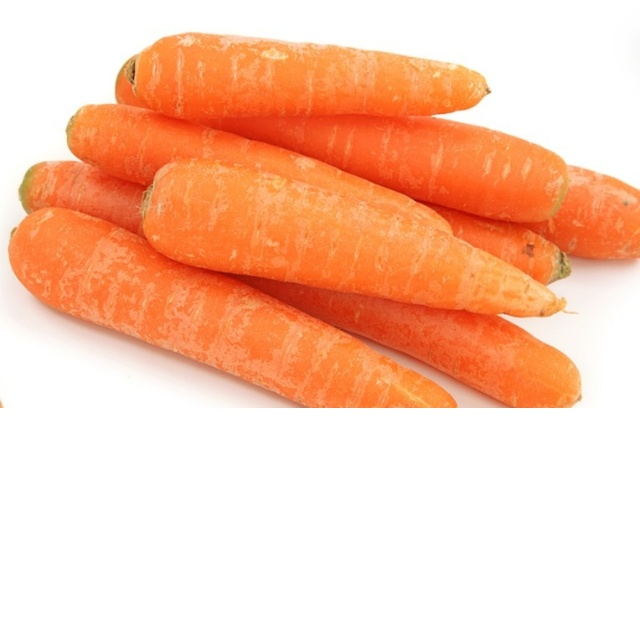ca_rot: (21, 163, 582, 408), (8, 208, 460, 408), (140, 163, 565, 319), (65, 105, 455, 238), (207, 99, 568, 223), (130, 32, 493, 117), (542, 159, 640, 263)
